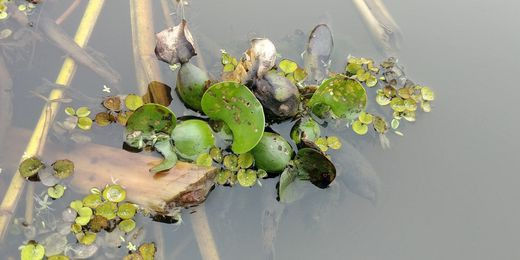water_hyacinth: (71, 8, 445, 199)
